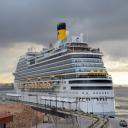cruises: (13, 21, 117, 117)
